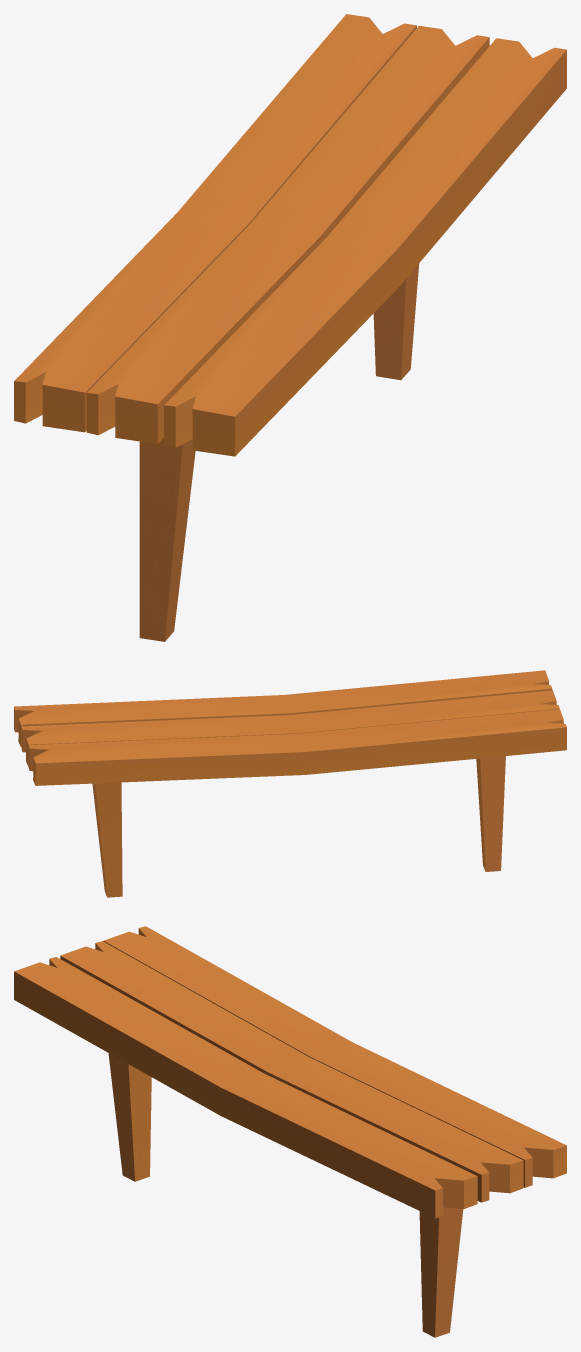
File: Podjopnik.fbx
3 renders of one model, top to bottom at view 1: azimuth 30°, elevation 25°; view 2: azimuth 150°, elevation 25°; view 3: azimuth 270°, elevation 25°, orthographic. The views are drawn at different scales.
Parts seen in each view (by area): view 1: Podjopnik; view 2: Podjopnik; view 3: Podjopnik.
Boxes of the visible parts, x1,y1,x2,y2 form: Podjopnik: (14,14,566,641); Podjopnik: (14,670,566,897); Podjopnik: (14,926,566,1337).
Size of the model in its own units: 0.6273 by 0.2244 by 0.5547.
